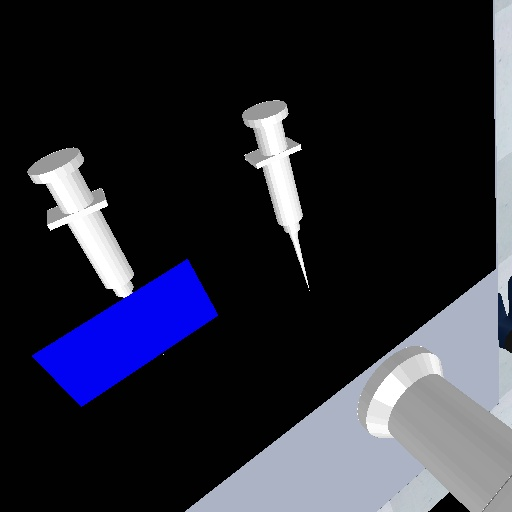jeringuilla: (234, 95, 329, 296), (24, 145, 137, 302)
